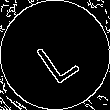L_NW: (28, 26, 82, 84)
